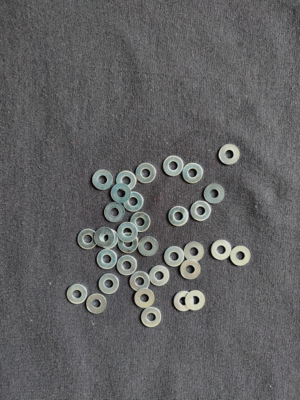circle: (92, 169, 114, 191), (66, 284, 88, 305), (98, 274, 120, 295), (96, 249, 118, 270), (163, 155, 185, 176), (220, 144, 241, 166), (86, 294, 107, 315), (104, 202, 125, 223), (130, 212, 151, 233), (117, 255, 138, 276), (141, 307, 162, 328), (129, 271, 150, 292), (149, 266, 170, 287), (185, 290, 206, 311), (230, 246, 251, 267), (168, 206, 189, 227), (97, 229, 119, 249), (78, 229, 98, 250), (116, 171, 137, 191), (136, 164, 157, 184), (124, 191, 144, 212), (138, 236, 159, 256), (118, 233, 139, 253), (174, 291, 195, 311), (164, 247, 185, 267), (181, 260, 202, 280), (211, 240, 232, 260), (183, 163, 203, 184), (204, 184, 225, 204), (191, 201, 211, 222), (111, 183, 131, 203), (95, 228, 115, 248), (118, 222, 138, 242), (135, 289, 156, 308), (185, 242, 204, 262)
